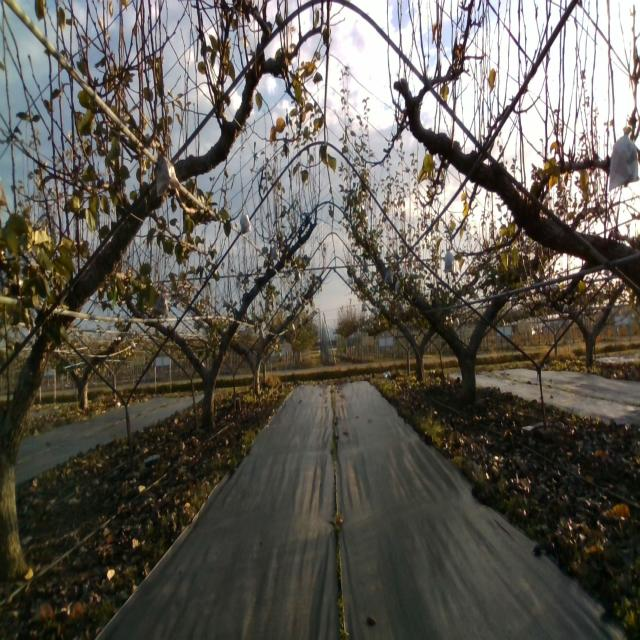pearbags: (610, 130, 640, 190), (156, 154, 181, 198), (442, 248, 455, 274), (240, 209, 252, 234)
